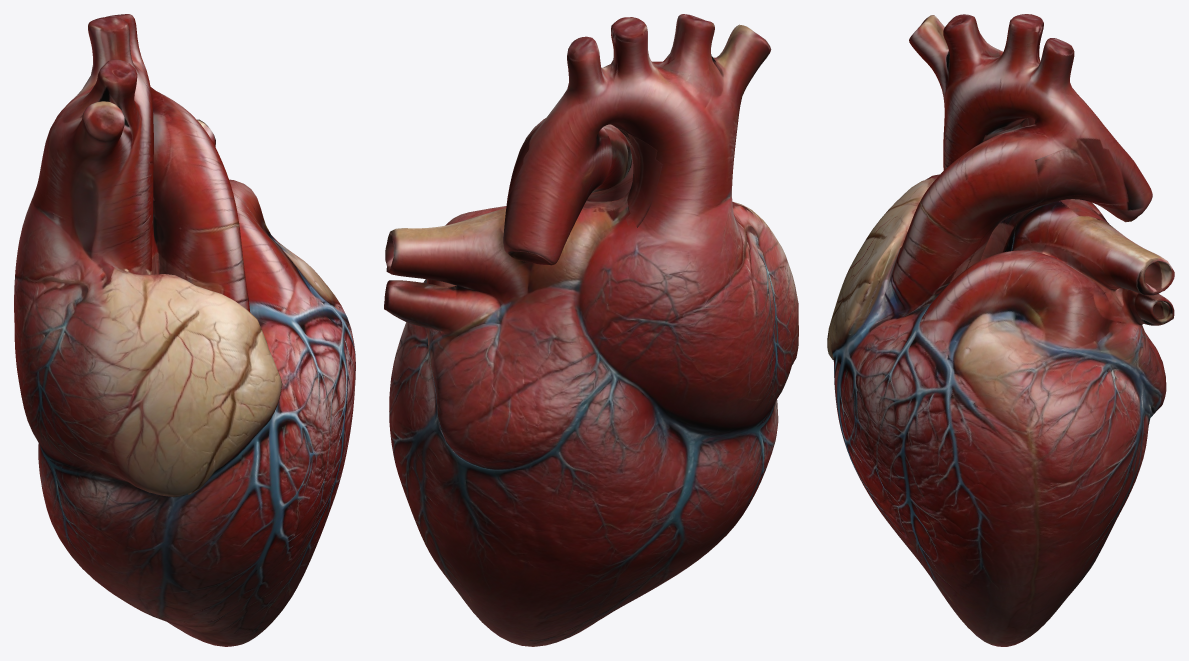
The model's file is heart.glb.
3 renders of one model, left to right at view 1: azimuth 30°, elevation 25°; view 2: azimuth 150°, elevation 25°; view 3: azimuth 270°, elevation 25°, orthographic. The views are drawn at different scales.
Parts seen in each view (by area): view 1: Stylized Human Heart; view 2: Stylized Human Heart; view 3: Stylized Human Heart.
Boxes of the visible parts, left/top/right/bottom form: Stylized Human Heart: left=14, top=14, right=355, bottom=646; Stylized Human Heart: left=384, top=14, right=798, bottom=646; Stylized Human Heart: left=827, top=14, right=1174, bottom=646.
Bounding box in the file's own units: 1.75 × 3.24 × 1.77.
Materials: 1 (1 with a texture image).
